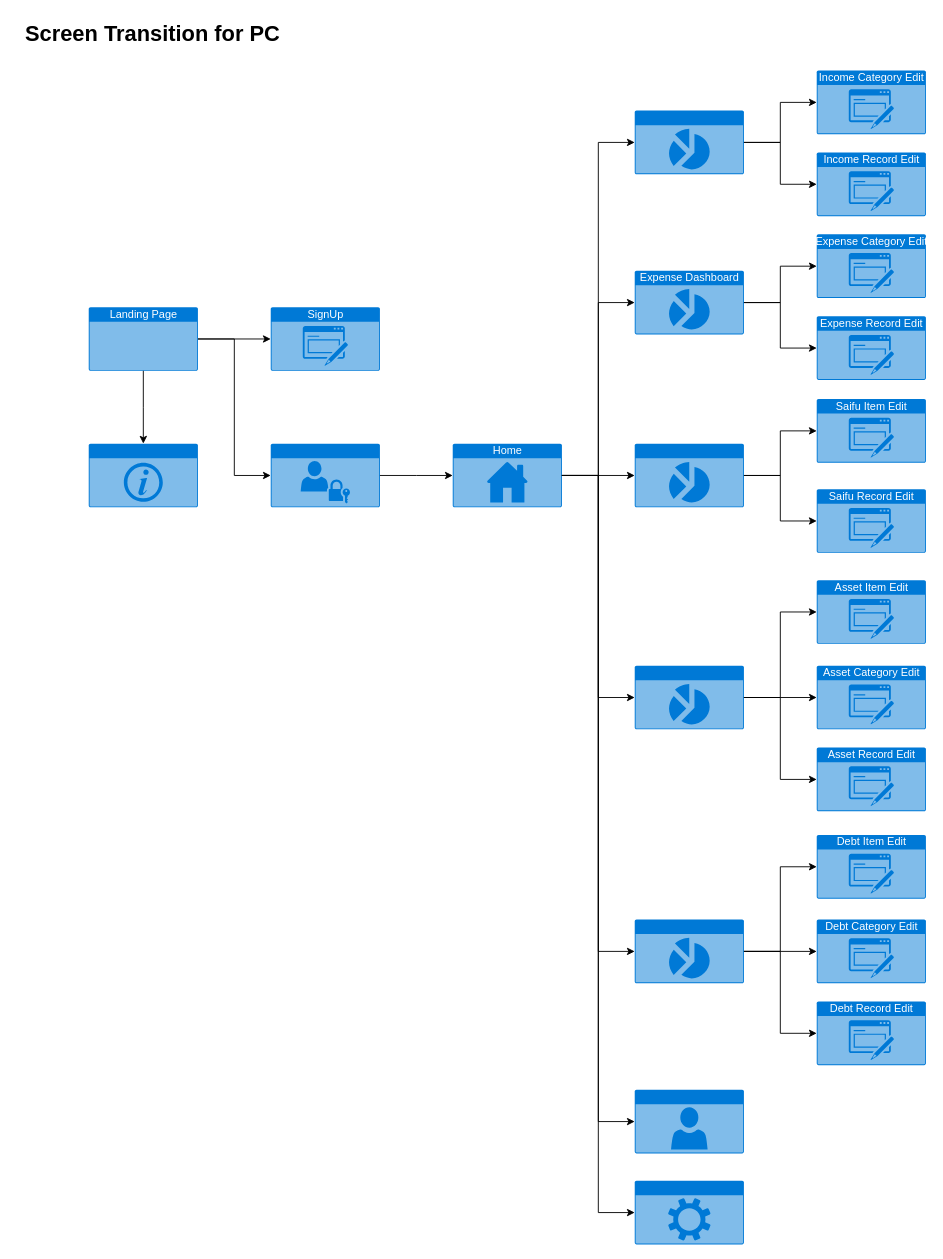
Image size: 943x1259. Some labels were removed from this diagram. Here are the shapes that lost their labels. From the top down, the centre of each, then its label:
At pixel 688 142: "Income Dashboard".
At pixel 142 475: "InfoDetail".
At pixel 324 475: "SignIn".
At pixel 688 475: "Safiu Dashboard".
At pixel 688 697: "Asset Dashboard".
At pixel 688 951: "Debt Dashboard".
At pixel 688 1121: "Member".
At pixel 688 1212: "Settings".
